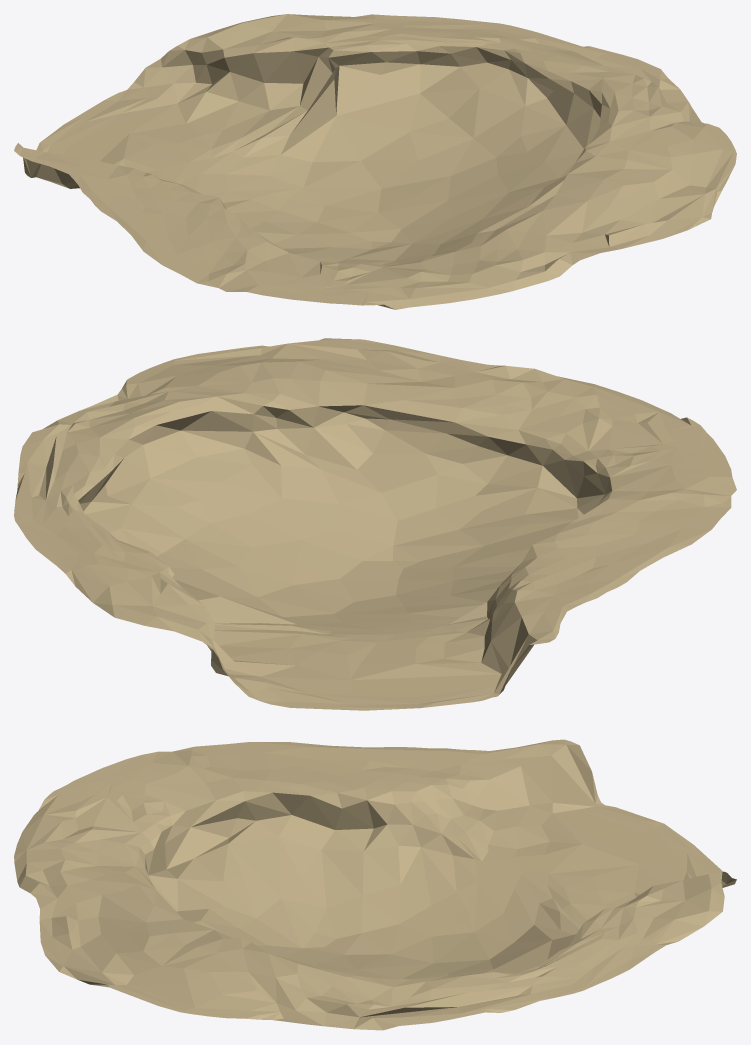
File: Big Sand with a hole.fbx
3 views of the same model, one above another, from view 1: azimuth 30°, elevation 25°; view 2: azimuth 150°, elevation 25°; view 3: azimuth 270°, elevation 25° (orthographic). The views are drawn at different scales.
Visible parts, largest first — view 1: pPlane5; view 2: pPlane5; view 3: pPlane5.
Boxes of the visible parts, x1,y1,x2,y2 form: pPlane5: [14, 14, 736, 309]; pPlane5: [14, 338, 736, 710]; pPlane5: [14, 739, 736, 1030].
Size of the model in its own units: 143 by 21.28 by 151.
